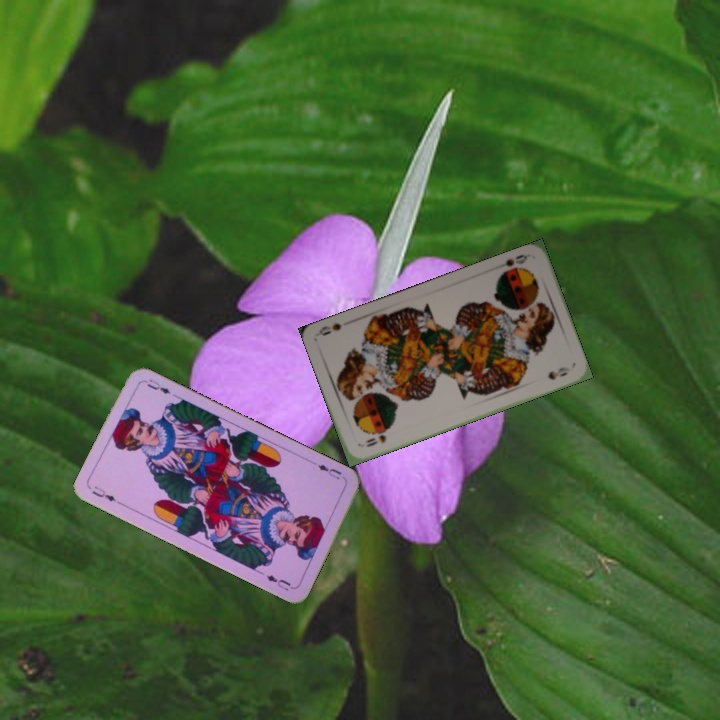EU: (310, 458, 348, 482), (88, 482, 118, 505)
SO: (501, 250, 530, 269), (362, 430, 389, 450)
